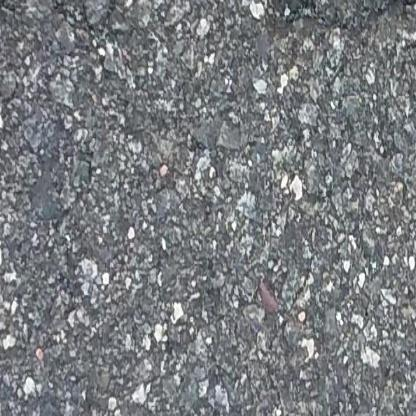Cracks: (227, 0, 416, 45), (0, 0, 142, 30)
